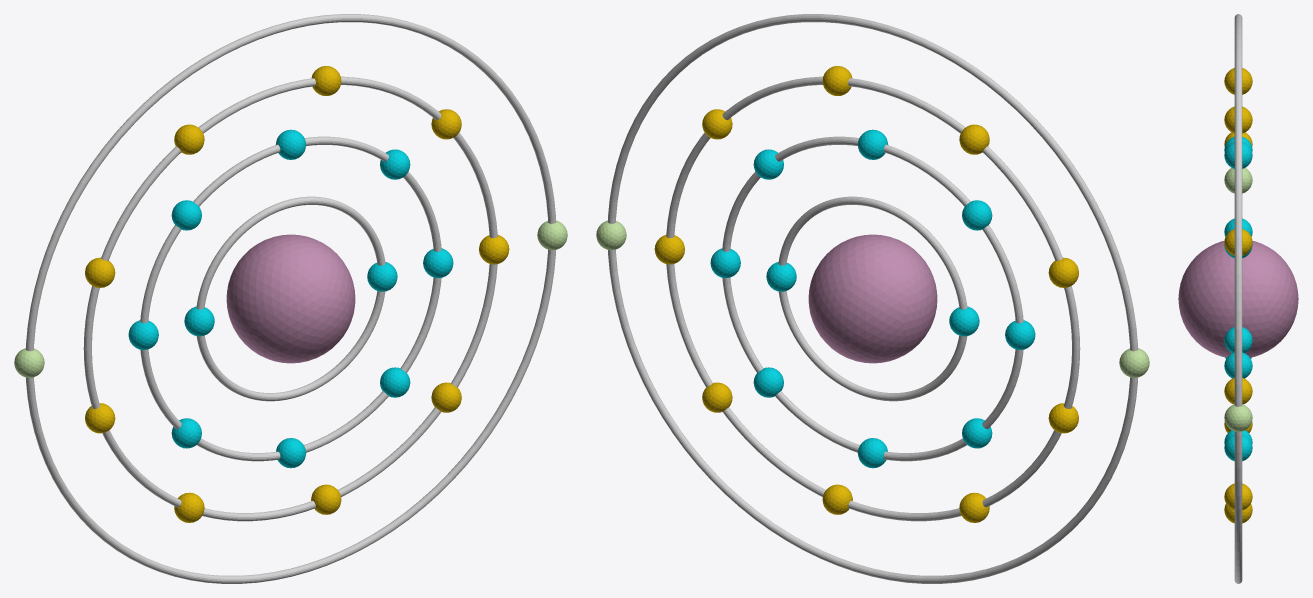
3 renders of one model, left to right at view 1: azimuth 30°, elevation 25°; view 2: azimuth 150°, elevation 25°; view 3: azimuth 270°, elevation 25°, orthographic. The views are drawn at different scales.
Parts seen in each view (by area): view 1: Camada_4, Nucleo_Sc, Camada_3, Camada_2, Camada_1, e3_9, e2_4, e2_8, e3_4, e3_5, e1_2, e2_5 (+14 smaller); view 2: Camada_4, Nucleo_Sc, Camada_3, Camada_2, Camada_1, e3_9, e2_4, e2_8, e3_4, e3_5, e1_2, e2_5 (+14 smaller); view 3: Nucleo_Sc, Camada_4, e4_1, e2_3, e3_2, e3_3, e2_8, e3_1, e3_9, e1_1, e2_1, e3_4 (+3 smaller).
Boxes of the visible parts, x1=… form: Camada_4: x1=25, y1=14, x2=556, y2=583; Nucleo_Sc: x1=226, y1=234, x2=355, y2=363; Camada_3: x1=83, y1=76, x2=497, y2=521; Camada_2: x1=140, y1=136, x2=441, y2=461; Camada_1: x1=196, y1=196, x2=385, y2=401; e3_9: x1=431, y1=382, x2=461, y2=412; e2_4: x1=171, y1=200, x2=201, y2=230; e2_8: x1=380, y1=367, x2=410, y2=397; e3_4: x1=174, y1=124, x2=204, y2=154; e3_5: x1=85, y1=257, x2=115, y2=287; e1_2: x1=184, y1=306, x2=214, y2=336; e2_5: x1=128, y1=320, x2=158, y2=349; Camada_4: x1=607, y1=14, x2=1138, y2=583; Nucleo_Sc: x1=808, y1=234, x2=937, y2=363; Camada_3: x1=666, y1=76, x2=1080, y2=521; Camada_2: x1=722, y1=136, x2=1023, y2=461; Camada_1: x1=778, y1=196, x2=967, y2=401; e3_9: x1=702, y1=382, x2=732, y2=412; e2_4: x1=962, y1=200, x2=992, y2=230; e2_8: x1=753, y1=367, x2=783, y2=397; e3_4: x1=959, y1=124, x2=989, y2=154; e3_5: x1=1048, y1=257, x2=1078, y2=287; e1_2: x1=949, y1=306, x2=979, y2=336; e2_5: x1=1005, y1=320, x2=1035, y2=349; Nucleo_Sc: x1=1178, y1=240, x2=1298, y2=357; Camada_4: x1=1234, y1=14, x2=1242, y2=583; e4_1: x1=1224, y1=404, x2=1252, y2=431; e2_3: x1=1224, y1=142, x2=1252, y2=168; e3_2: x1=1224, y1=229, x2=1252, y2=255; e3_3: x1=1224, y1=106, x2=1252, y2=133; e2_8: x1=1224, y1=434, x2=1252, y2=461; e3_1: x1=1224, y1=378, x2=1252, y2=404; e3_9: x1=1224, y1=483, x2=1252, y2=510; e1_1: x1=1224, y1=327, x2=1252, y2=352; e2_1: x1=1224, y1=352, x2=1252, y2=378; e3_4: x1=1224, y1=68, x2=1252, y2=94.
Size of the model in its own units: 2.16 by 2.09 by 0.44.
